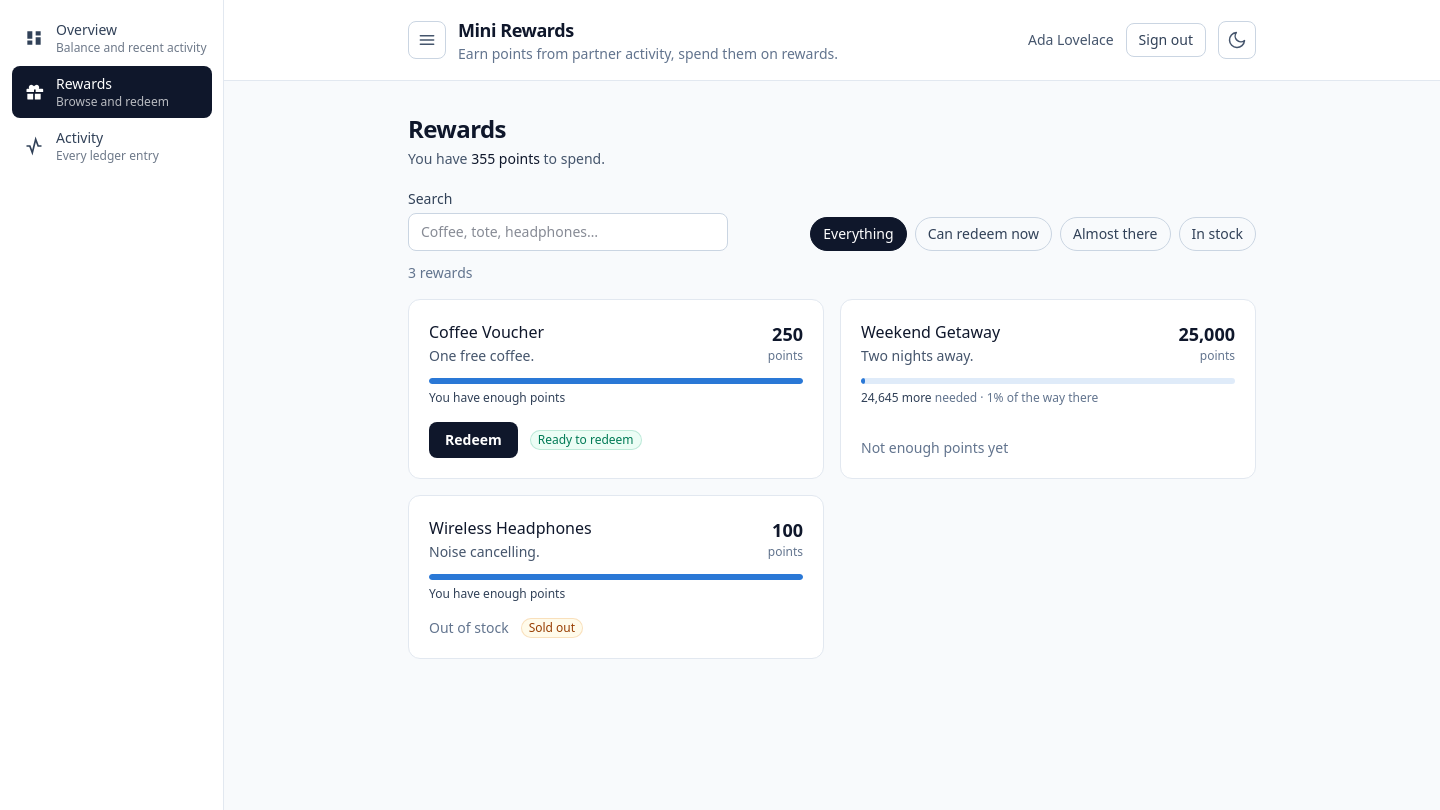
it: redeeming › says the points were returned when fulfilment fails
Click the button "Redeem": (473, 440) [429, 422, 518, 458]
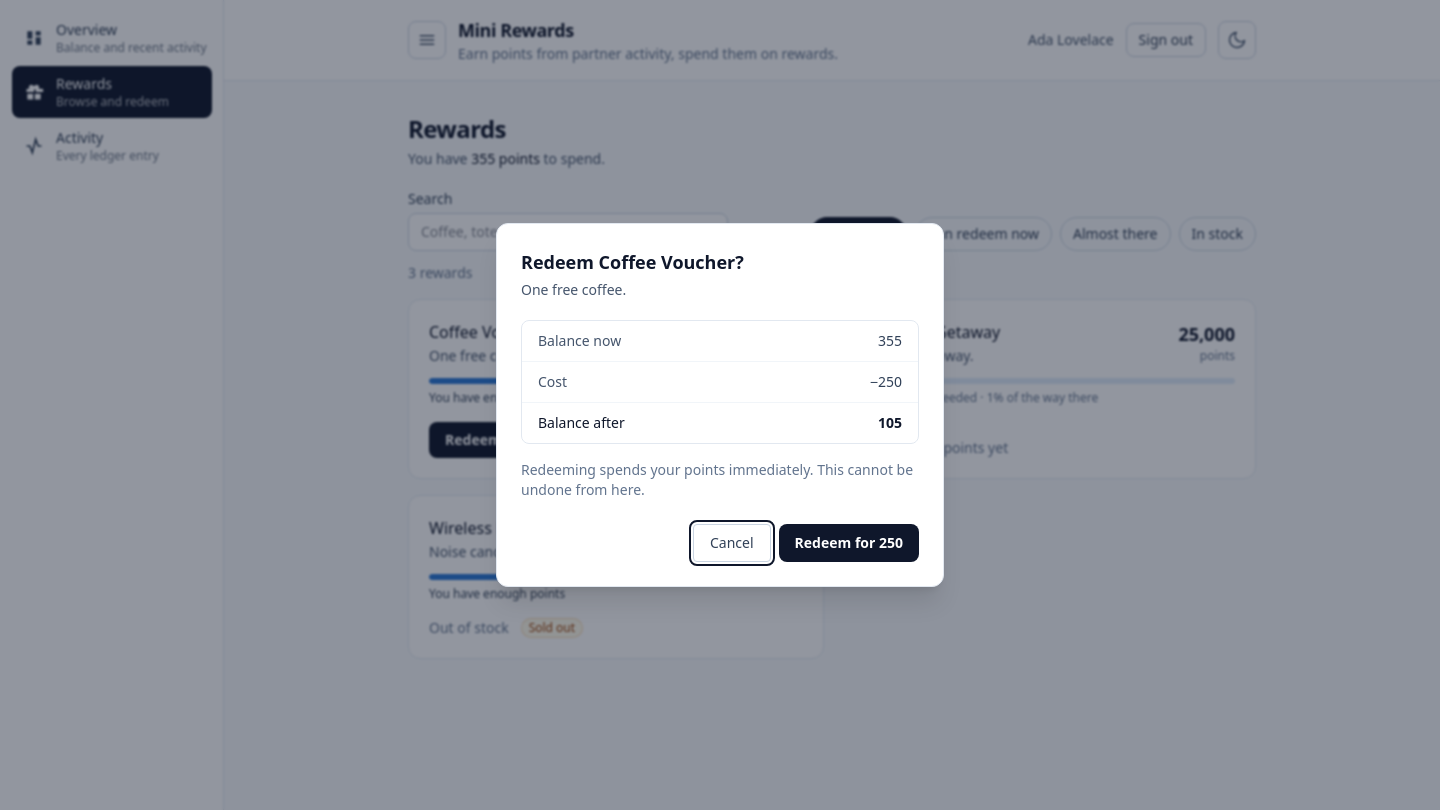
Click the button "Redeem for 250": (849, 543) [779, 524, 919, 562]
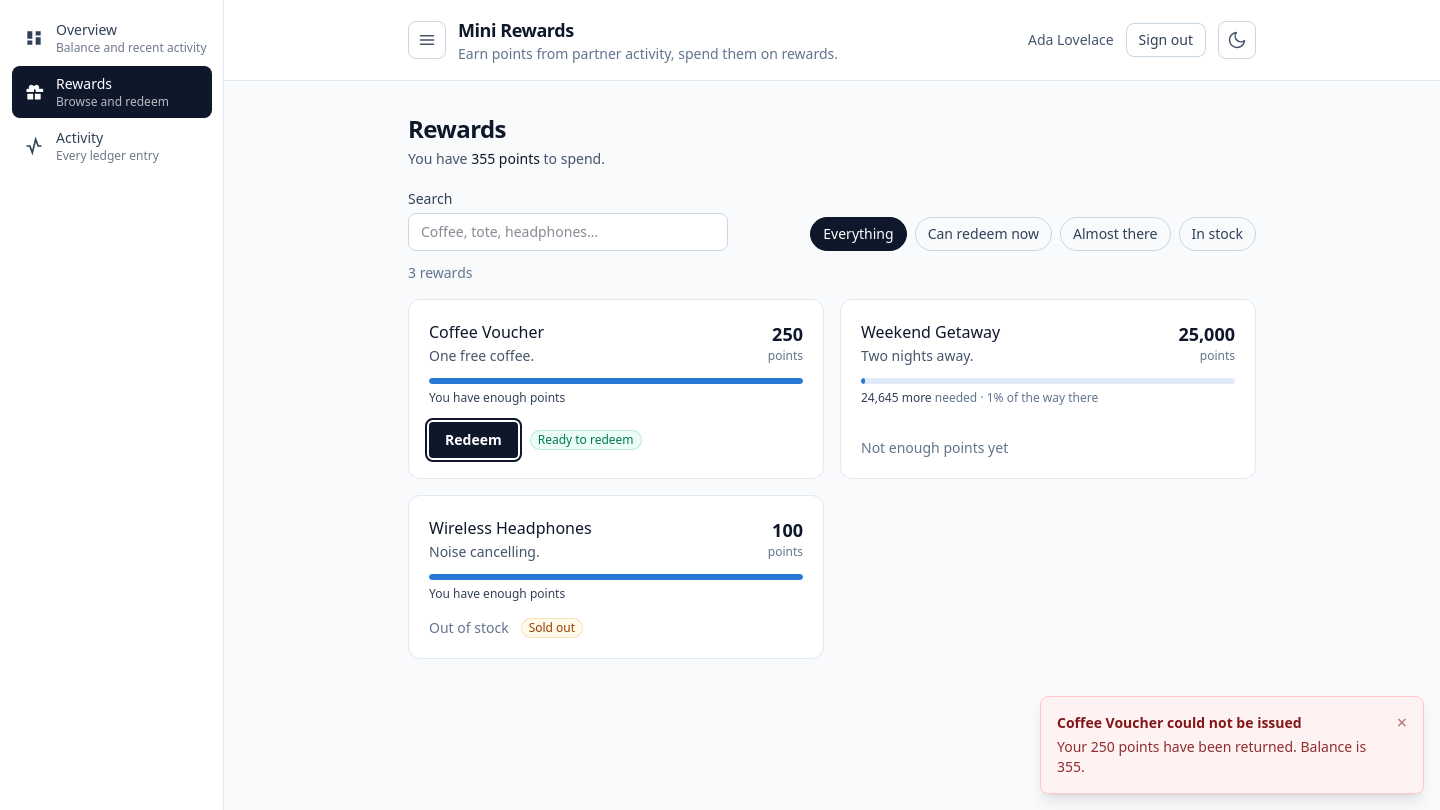
Expected: the text "Coffee Voucher could not be issued" is shown, [1057, 713, 1302, 732]
Expected: the text "Your 250 points have been returned. Balance is 355." is shown, [1057, 737, 1385, 777]
